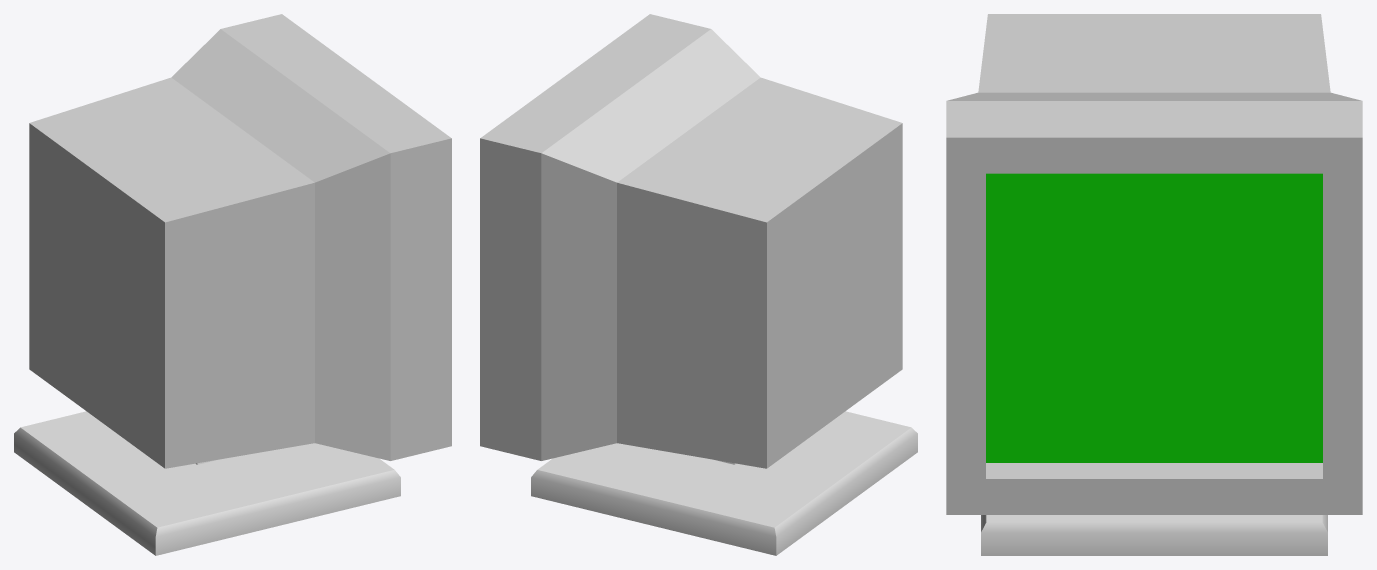
File: Monitor.fbx
3 renders of one model, left to right at view 1: azimuth 30°, elevation 25°; view 2: azimuth 150°, elevation 25°; view 3: azimuth 270°, elevation 25°, orthographic. The views are drawn at different scales.
Visible parts, largest first — view 1: Cube.001, Cube; view 2: Cube.001, Cube; view 3: Cube.001, Cube.
Boxes of the visible parts, box(x1,y1,x2,y2) form: Cube.001: box(29, 14, 451, 468); Cube: box(14, 411, 400, 555); Cube.001: box(480, 14, 902, 468); Cube: box(531, 411, 917, 555); Cube.001: box(946, 14, 1362, 514); Cube: box(981, 515, 1327, 555).
Size of the model in its own units: 230 by 280 by 240.
